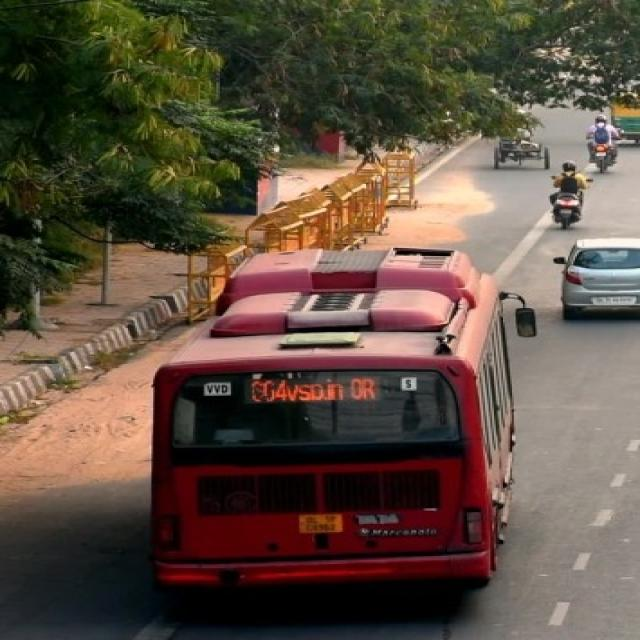bus: (152, 248, 536, 588)
car: (554, 239, 639, 317)
